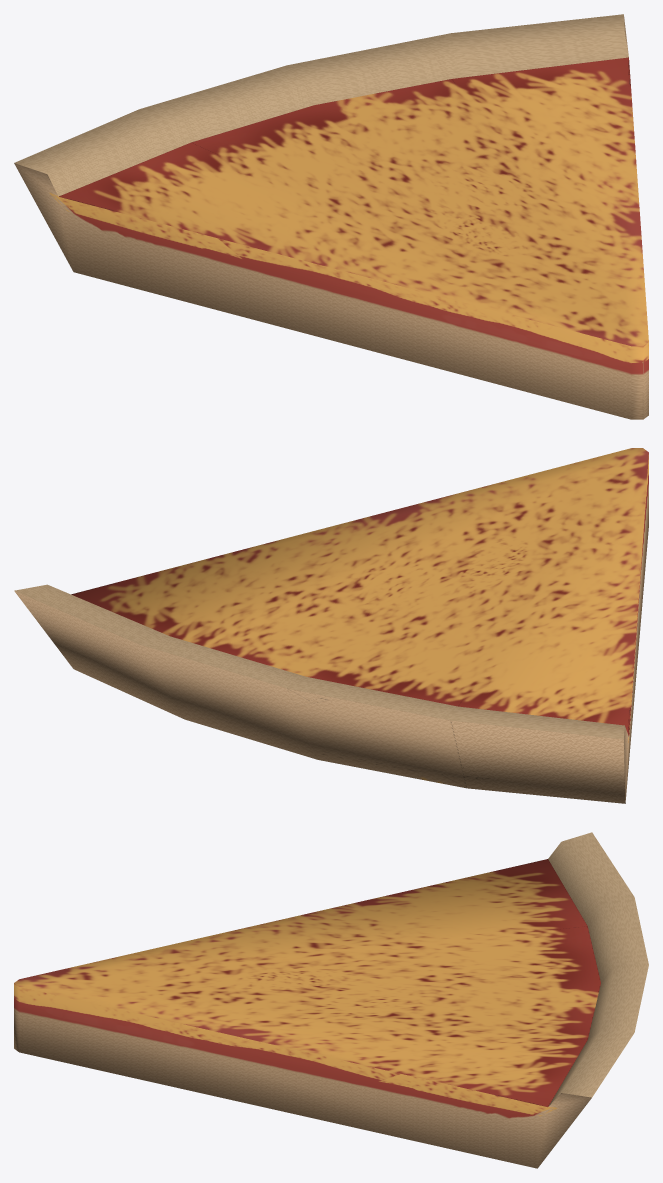
Rendered from WorldItem_PizzaSaucedSlice.fbx.
3 renders of one model, top to bottom at view 1: azimuth 30°, elevation 25°; view 2: azimuth 150°, elevation 25°; view 3: azimuth 270°, elevation 25°, orthographic. The views are drawn at different scales.
Parts seen in each view (by area): view 1: Pie_Lemonmeringue001.001; view 2: Pie_Lemonmeringue001.001; view 3: Pie_Lemonmeringue001.001.
Part boxes in pixels (bbox=[...]): Pie_Lemonmeringue001.001: bbox=[14, 14, 648, 419]; Pie_Lemonmeringue001.001: bbox=[14, 448, 648, 803]; Pie_Lemonmeringue001.001: bbox=[14, 832, 648, 1168].
Bounding box in the file's own units: 22.09 × 3.25 × 22.34.
